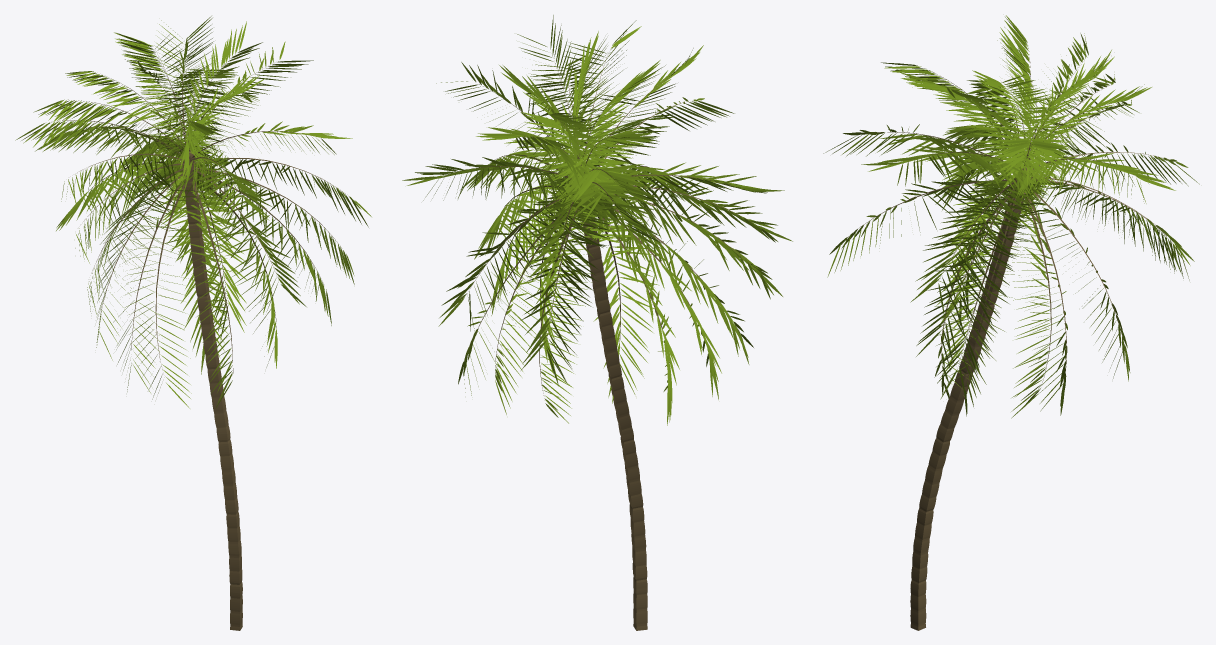
File: palm.obj
3 views of the same model, side by side, from view 1: azimuth 30°, elevation 25°; view 2: azimuth 150°, elevation 25°; view 3: azimuth 270°, elevation 25° (orthographic). The views are drawn at different scales.
Visible parts, largest first — view 1: leaves, leaves2, trunk, stems_1; view 2: leaves, leaves2, trunk, stems_1; view 3: leaves, leaves2, trunk, stems_1.
Boxes of the visible parts, <box> form: leaves: <box>20,16,371,404</box>; leaves2: <box>15,19,361,408</box>; trunk: <box>182,151,242,630</box>; stems_1: <box>59,57,342,373</box>; leaves: <box>402,20,787,425</box>; leaves2: <box>413,15,792,419</box>; trunk: <box>581,212,647,630</box>; stems_1: <box>455,56,762,395</box>; leaves: <box>830,15,1194,416</box>; leaves2: <box>825,17,1199,418</box>; trunk: <box>910,167,1026,630</box>; stems_1: <box>846,48,1167,383</box>.
Size of the model in its own units: 7.61 by 13.64 by 7.87.
